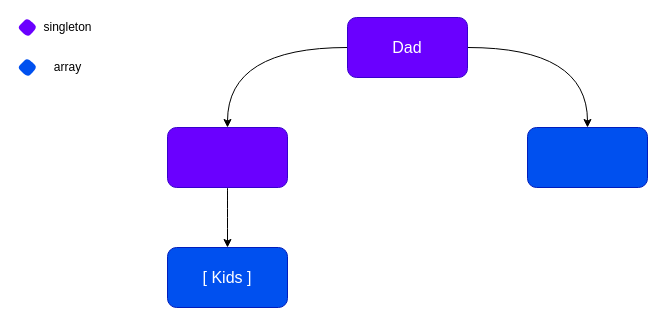
The diagram is 665 pixels wide and 325 high, and some of its shapes have lost their labels. Each missing label, with the box of its shape:
[ Buddies ]: (526, 126, 648, 188)
Mom: (166, 126, 288, 188)
